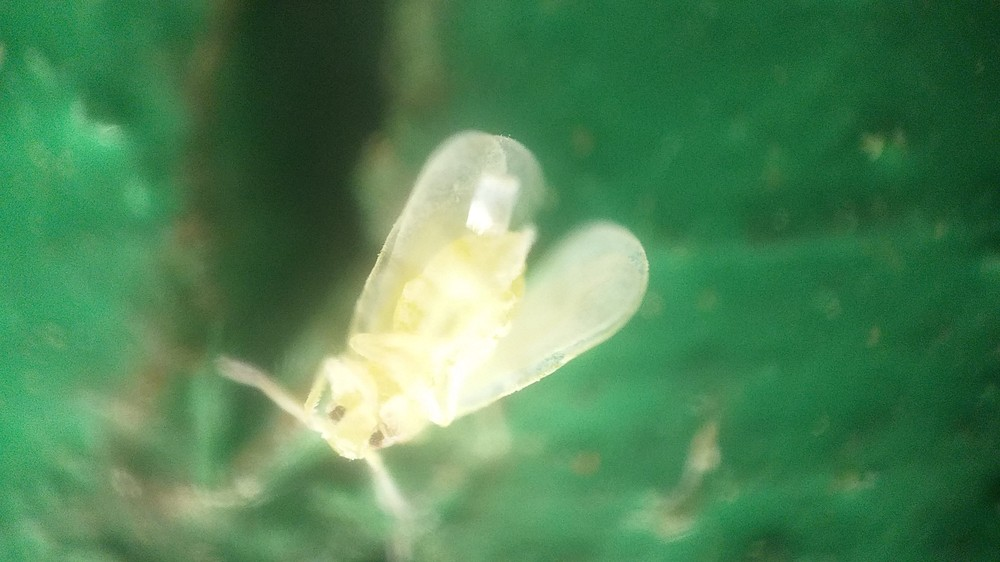Mosca Blanca: (211, 125, 668, 558)
